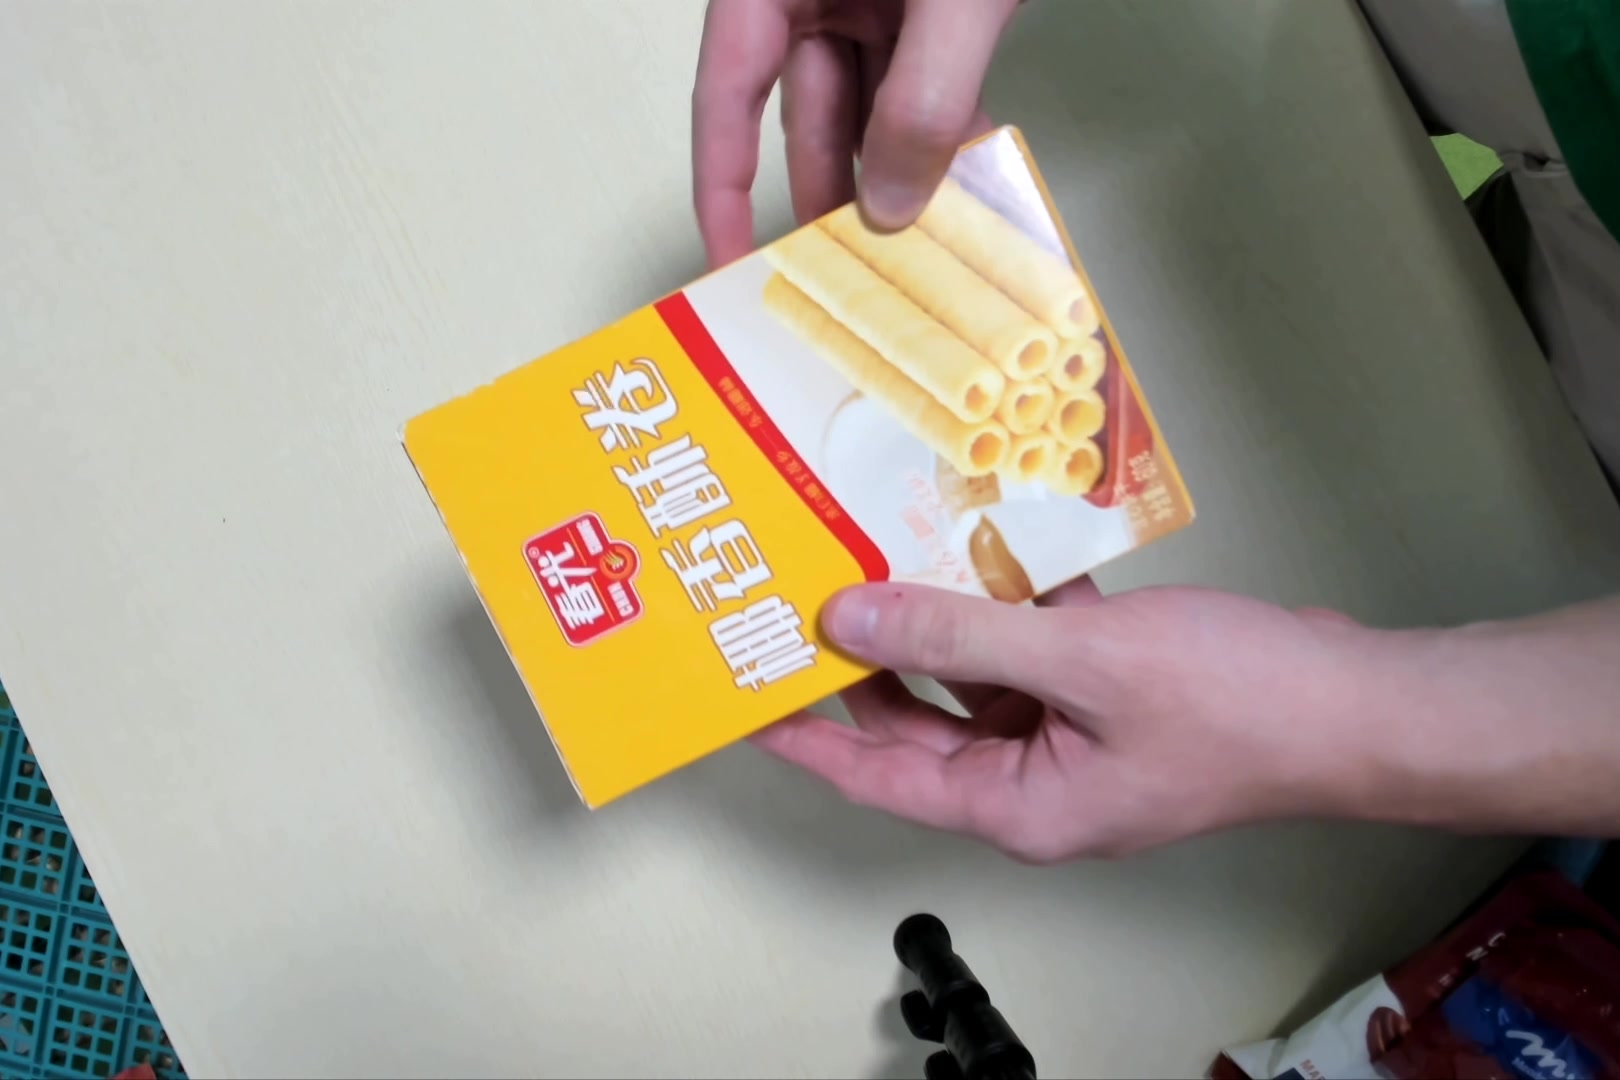BiscuitsCrackersCookies_0-99g_NonHalal_NonHealthy: (400, 133, 1201, 814)
